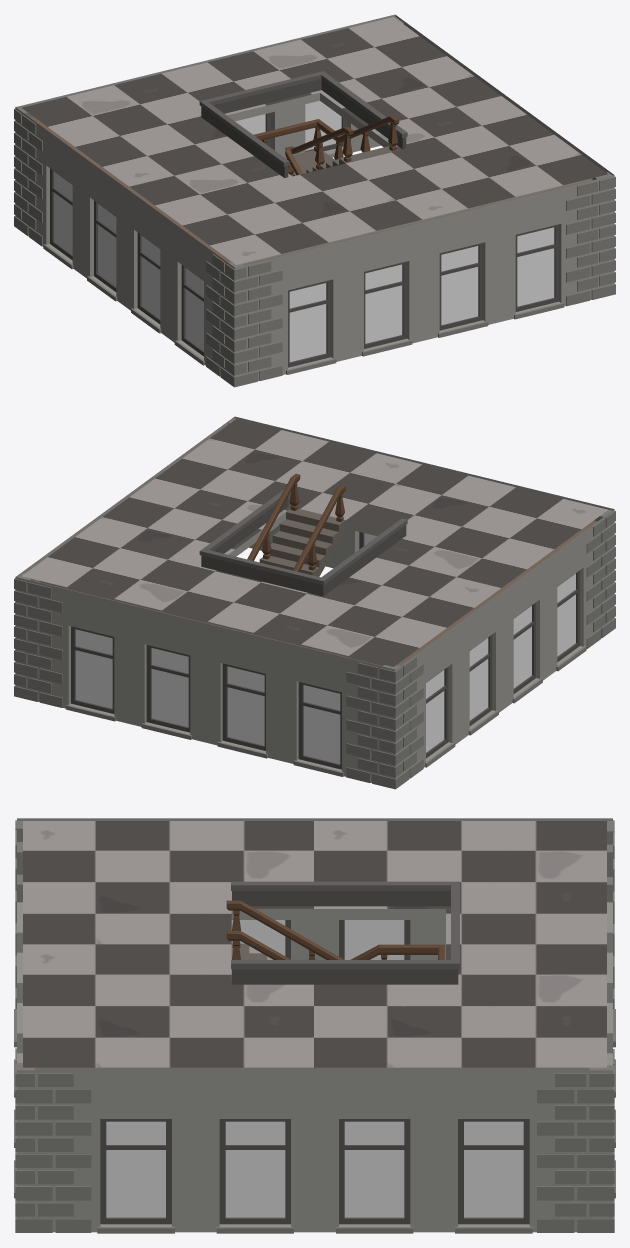
The model's file is SM_Bldg_City_High-Rise_04_Mid_02.fbx.
3 renders of one model, top to bottom at view 1: azimuth 30°, elevation 25°; view 2: azimuth 150°, elevation 25°; view 3: azimuth 270°, elevation 25°, orthographic. The views are drawn at different scales.
Parts seen in each view (by area): view 1: SM_Bldg_City_High-Rise_04_Mid_02, SM_Bldg_City_High-Rise_04_Mid_02_Glass; view 2: SM_Bldg_City_High-Rise_04_Mid_02, SM_Bldg_City_High-Rise_04_Mid_02_Glass; view 3: SM_Bldg_City_High-Rise_04_Mid_02, SM_Bldg_City_High-Rise_04_Mid_02_Glass.
Boxes of the visible parts, x1,y1,x2,y2 form: SM_Bldg_City_High-Rise_04_Mid_02: (14,14,615,387); SM_Bldg_City_High-Rise_04_Mid_02_Glass: (54,101,554,361); SM_Bldg_City_High-Rise_04_Mid_02: (14,416,615,789); SM_Bldg_City_High-Rise_04_Mid_02_Glass: (75,533,575,763); SM_Bldg_City_High-Rise_04_Mid_02: (14,818,615,1233); SM_Bldg_City_High-Rise_04_Mid_02_Glass: (106,920,523,1217).
Size of the model in its own units: 1010 by 384 by 1010.
